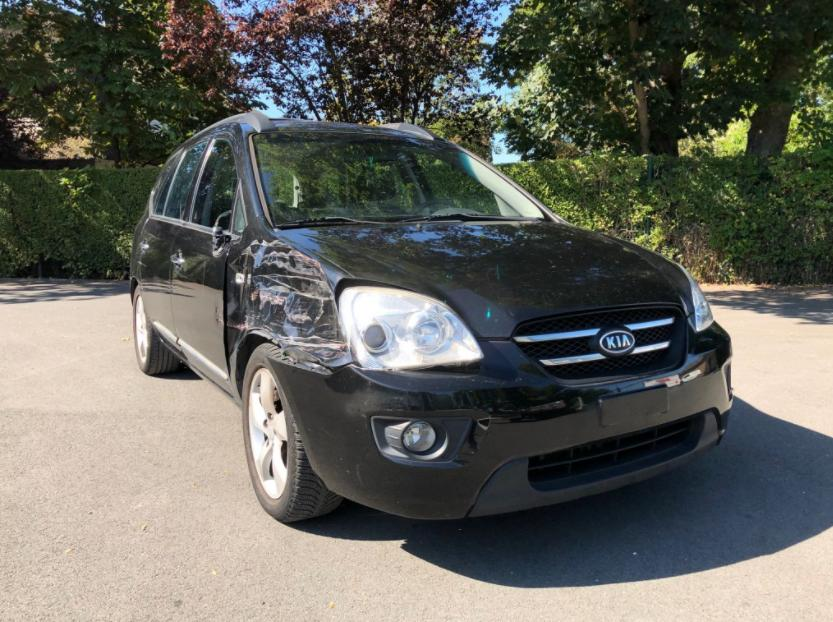Back-door: (136, 137, 211, 358)
Back-wheel: (134, 286, 176, 373)
Back-window: (155, 144, 205, 219)
Fender: (226, 216, 351, 398)
Front-bumper: (268, 321, 736, 520)
Front-door: (172, 136, 250, 395)
Front-wheel: (239, 344, 337, 522)
Front-window: (193, 142, 235, 228), (235, 192, 245, 230)
Grille: (516, 310, 683, 381)
Headlight: (336, 286, 481, 370), (679, 264, 715, 334)
Hood: (271, 218, 691, 338)
Quarter-panel: (130, 218, 148, 281)
Rocker-panel: (152, 327, 238, 406)
Roof: (172, 112, 435, 153)
Windshield: (254, 130, 548, 225)
